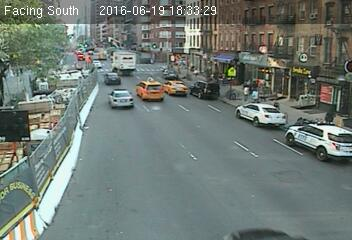neg: (279, 67, 294, 87), (168, 49, 179, 64)
pos: (240, 83, 253, 99), (252, 88, 261, 100)
